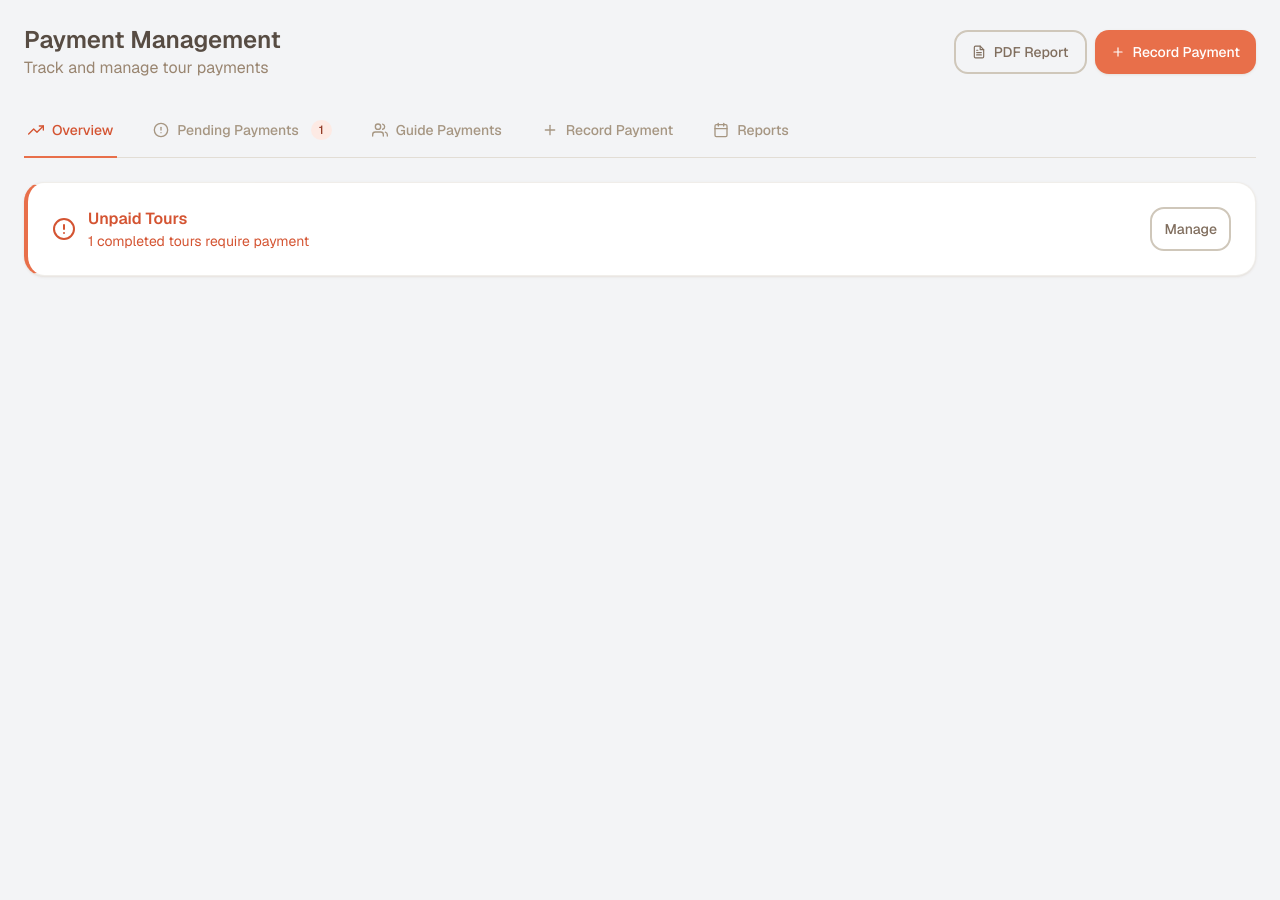
Scenario: Payments: a timed-out payment POST (step 4.8) › is sent once, never retried, says "outcome unknown", and blocks re-recording until refreshed
open the Record tab, pick the tour, enter €50
Click the button "Record Payment" in the row of "Payment Management" at (1175, 52), box x1=1095 y1=30 x2=1256 y2=74
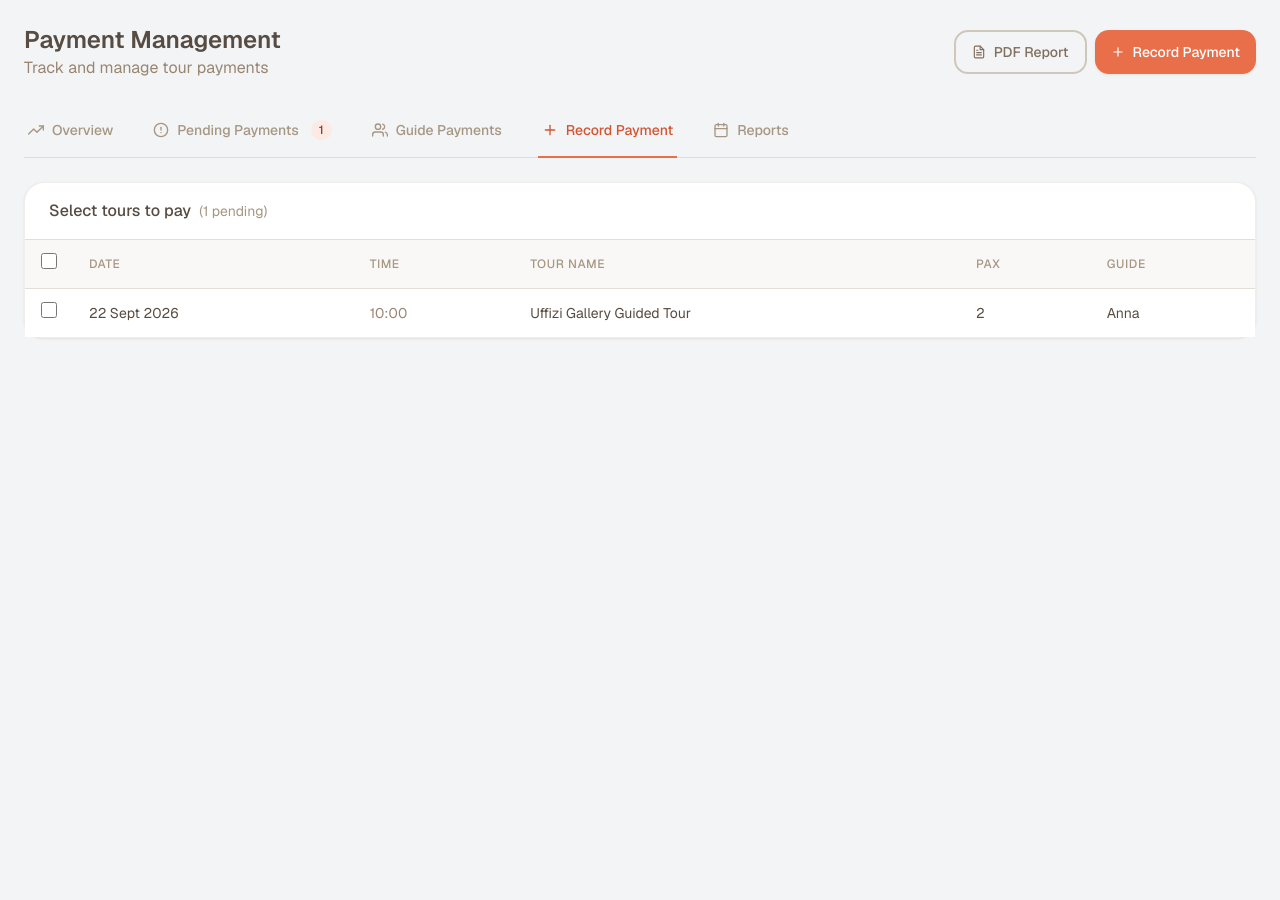
Click the text "Uffizi Gallery Guided Tour" at (611, 313), box x1=530 y1=304 x2=691 y2=322
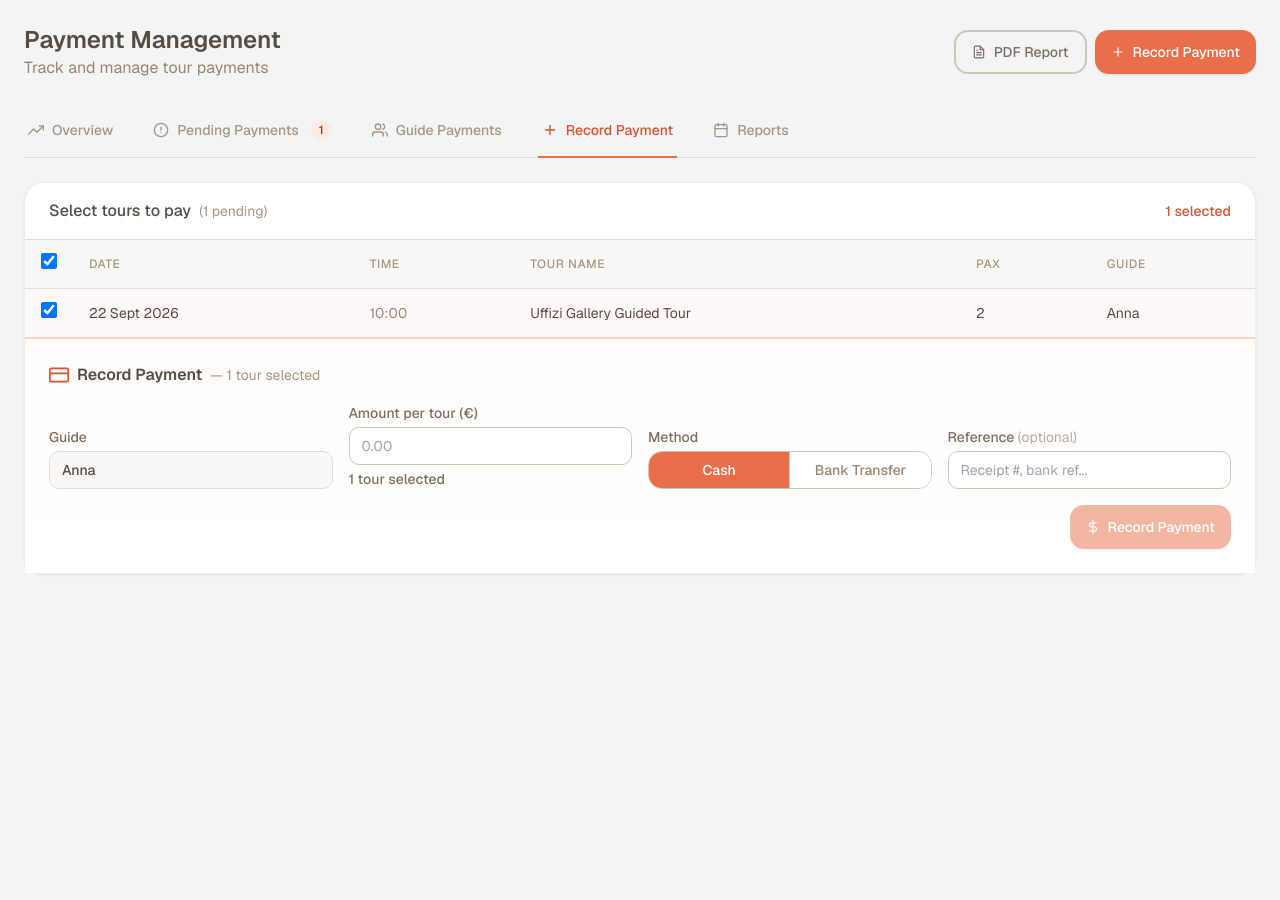
Type "50" into the number field with placeholder "0.00" at (490, 446), box x1=348 y1=427 x2=632 y2=465
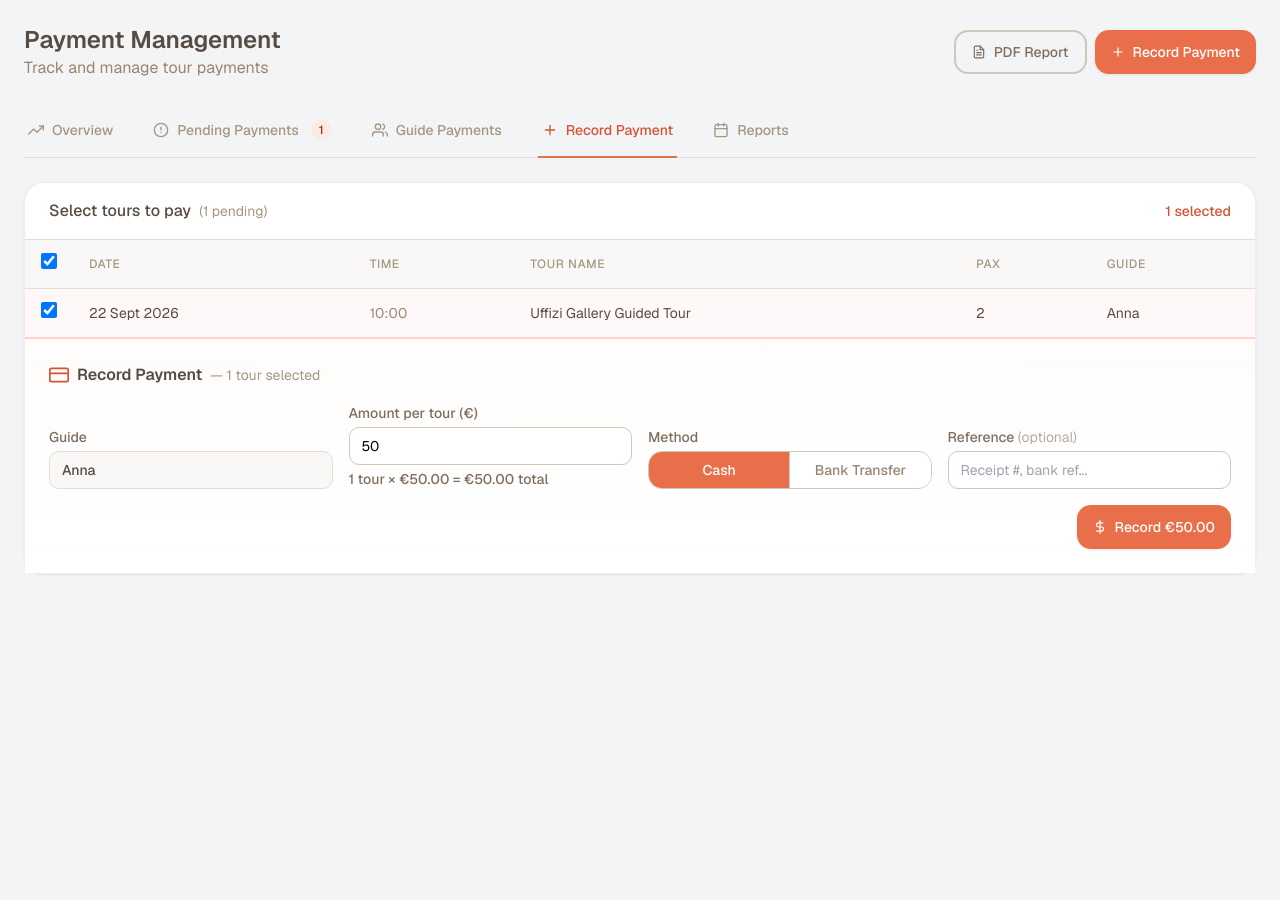
Click the button "Record €50.00" at (1154, 527), box x1=1077 y1=505 x2=1231 y2=549
Wait 91000 ms
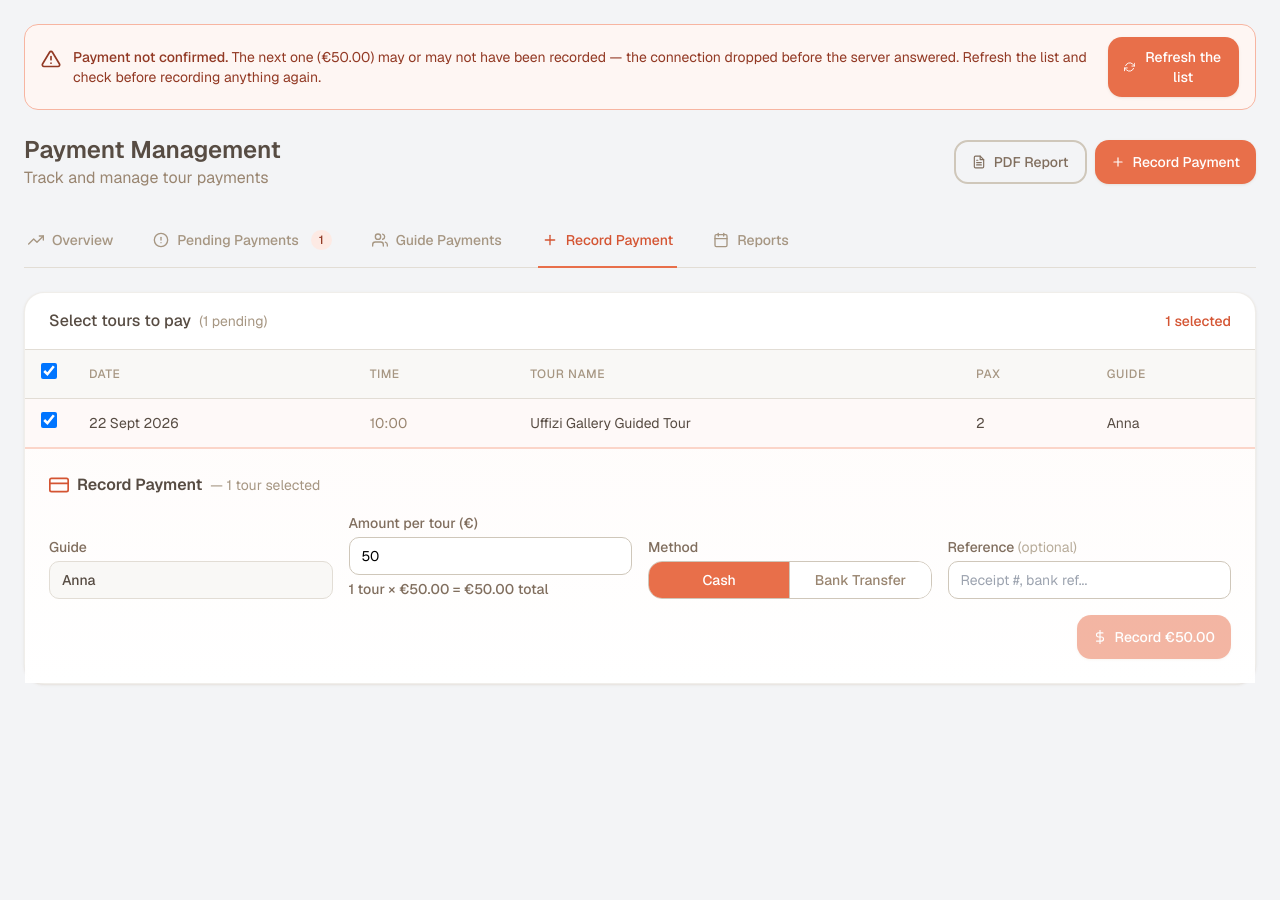
Check: the message with test id "payment-outcome-unknown" shows "Payment not confirmed.", box x1=73 y1=48 x2=228 y2=66
Check: the message with test id "payment-outcome-unknown" shows "may or may not have been recorded", box x1=73 y1=48 x2=1087 y2=86
Check: the message with test id "payment-outcome-unknown" shows "Refresh the list and check before recording anything again.", box x1=73 y1=48 x2=1087 y2=86
"Refresh the list" reloads from the server and lifts the block
Click the button "Refresh the list" at (1174, 67), box x1=1108 y1=37 x2=1239 y2=97
Wait 10 ms
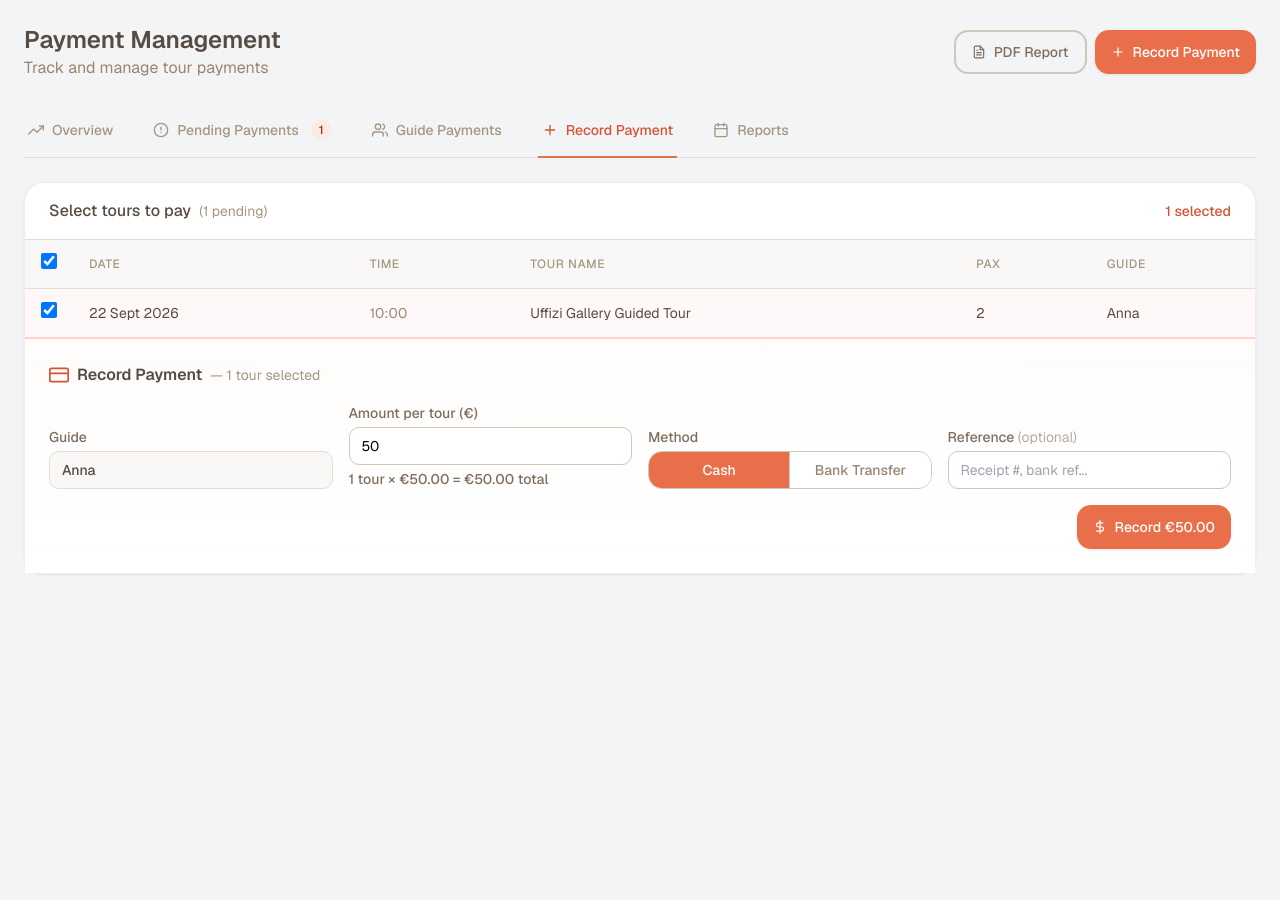
Check: the message with test id "payment-outcome-unknown" is gone
